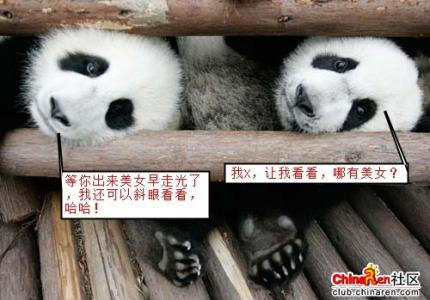panda: (1, 21, 197, 151), (222, 30, 426, 135)
